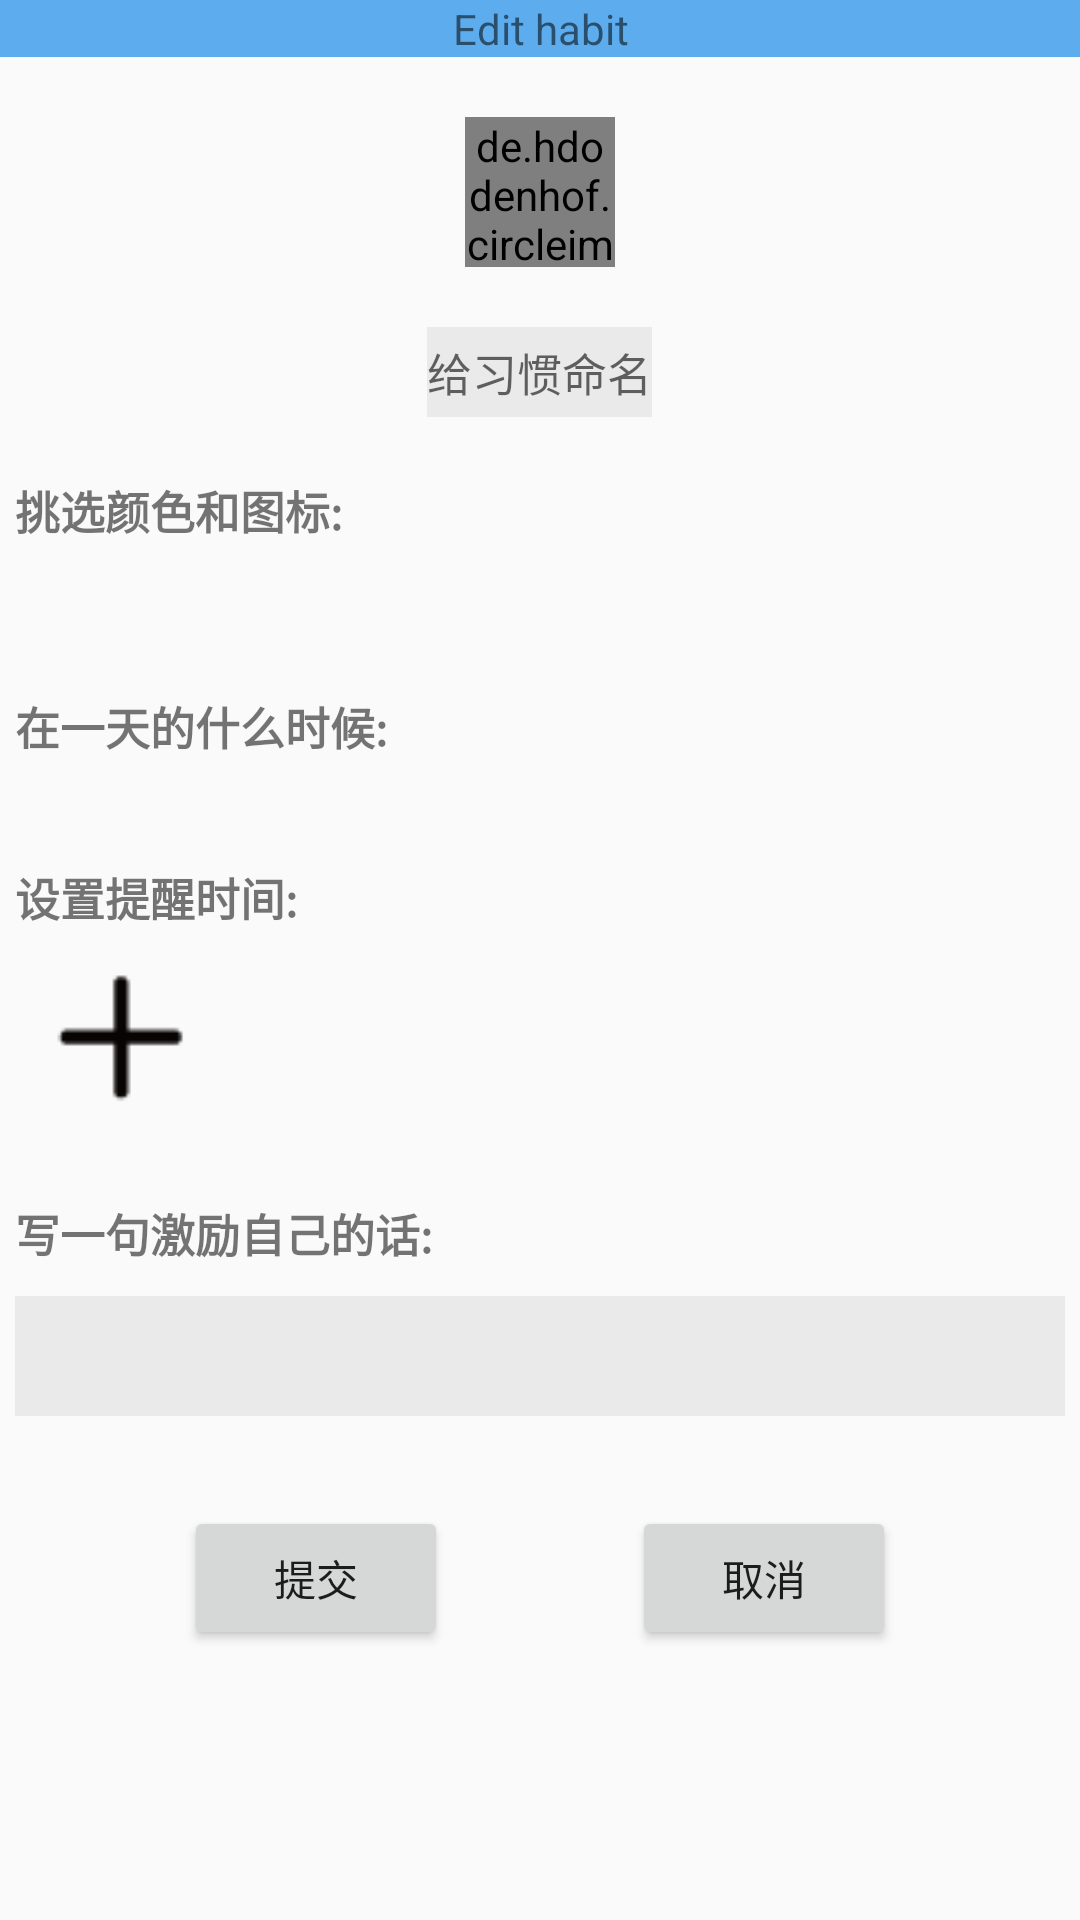

Locate icon controls on the screen. Image size 1080w x 1920h, boxes as (x1, y1, x2, y2).
add: (58, 975, 183, 1101)
